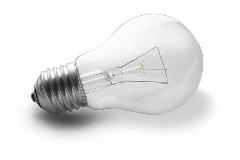lightbulb: (30, 13, 204, 116)
